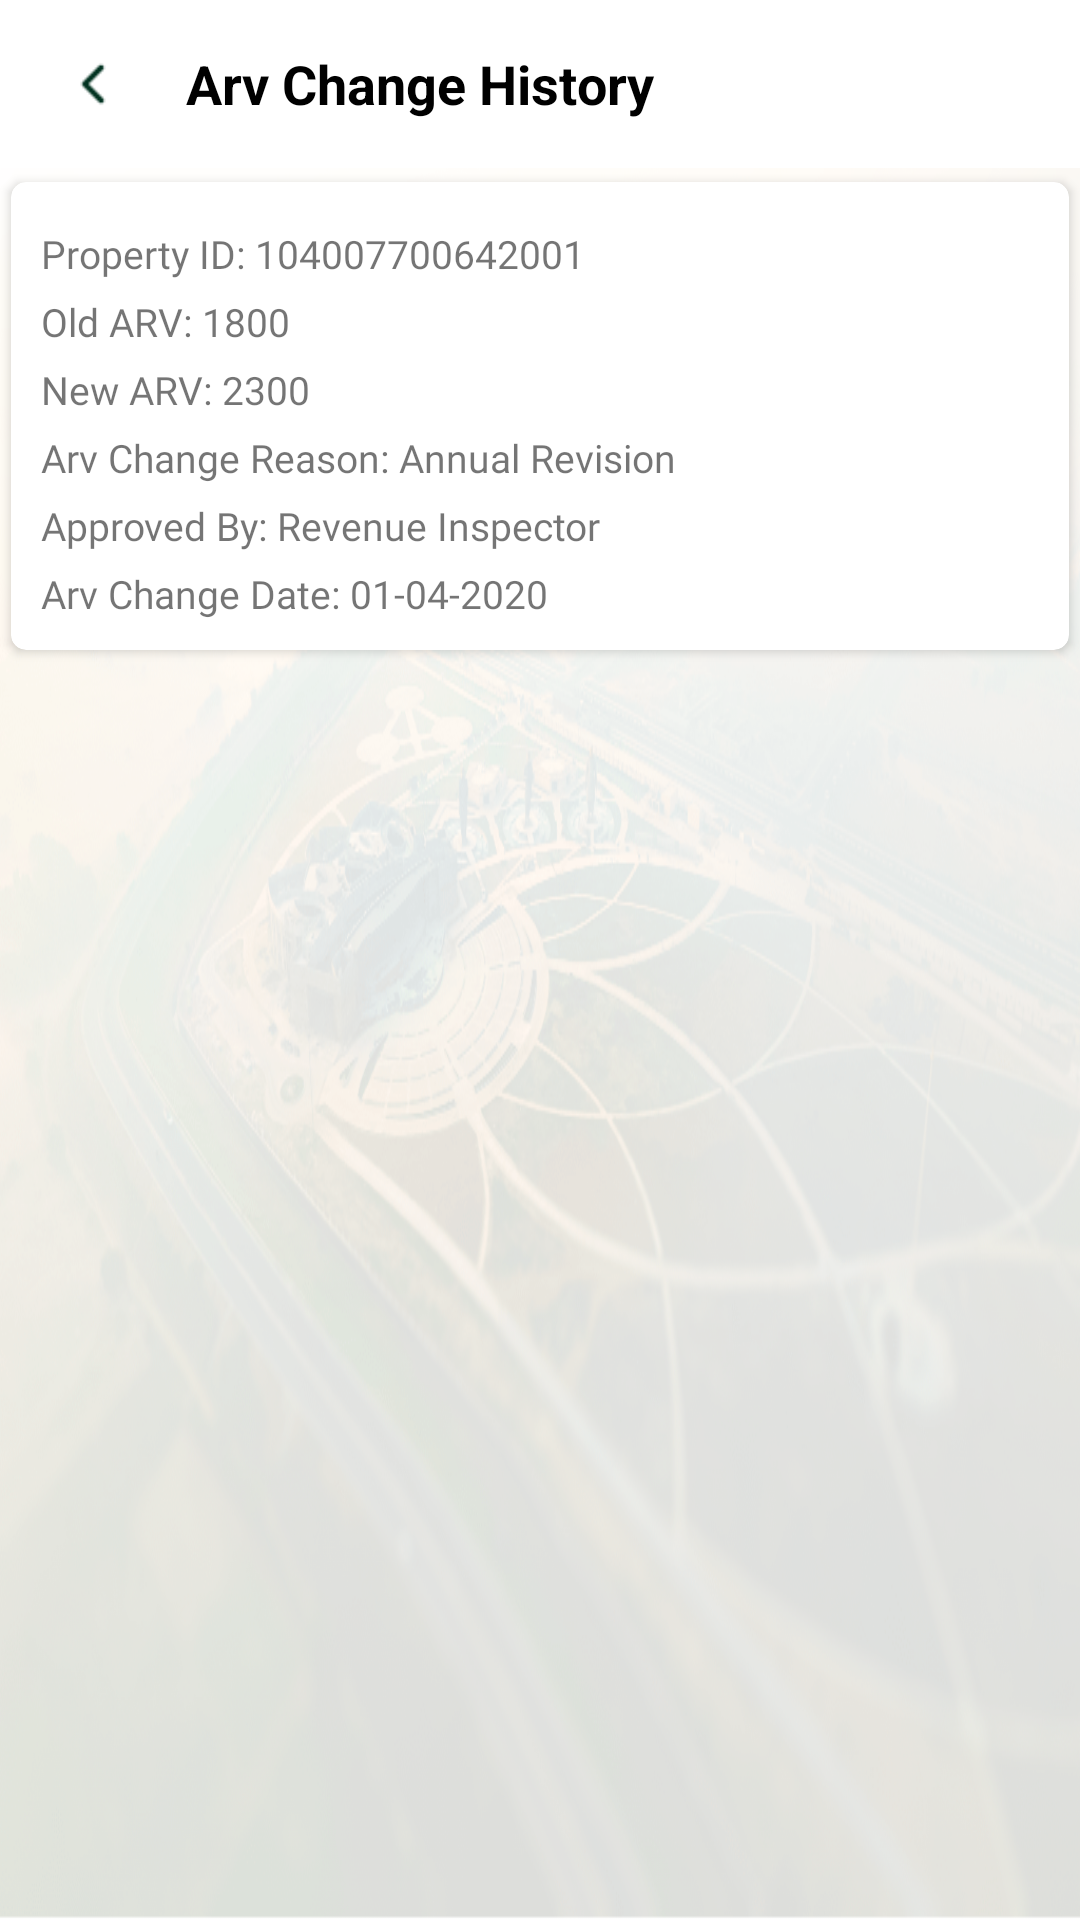

Icons on this 1080w x 1920h Android screen, each with the point to tap as [x,y]:
left: [93,84]
